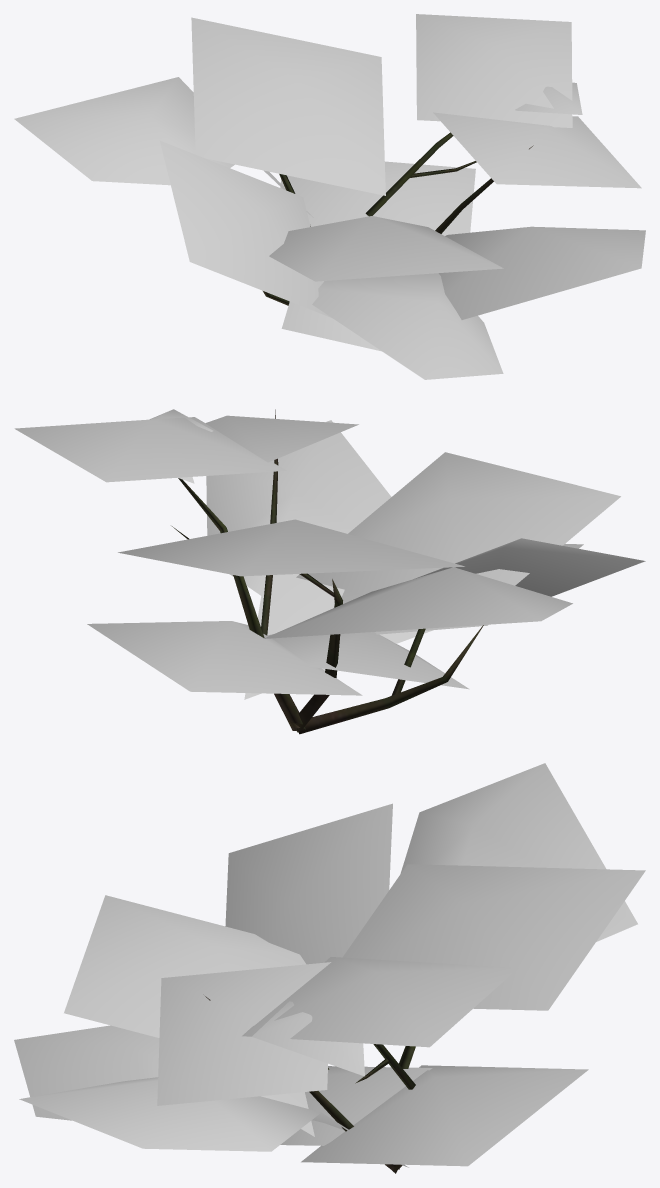
File: GYMS00060_36.FBX
3 renders of one model, top to bottom at view 1: azimuth 30°, elevation 25°; view 2: azimuth 150°, elevation 25°; view 3: azimuth 270°, elevation 25°, orthographic. The views are drawn at different scales.
Visible parts, largest first — view 1: MS00060_36; view 2: MS00060_36; view 3: MS00060_36.
Part boxes in pixels (x1=…): MS00060_36: x1=14, y1=14, x2=645, y2=379; MS00060_36: x1=14, y1=409, x2=645, y2=734; MS00060_36: x1=14, y1=763, x2=645, y2=1173.
Size of the model in its own units: 2.62 by 1.16 by 2.38.
